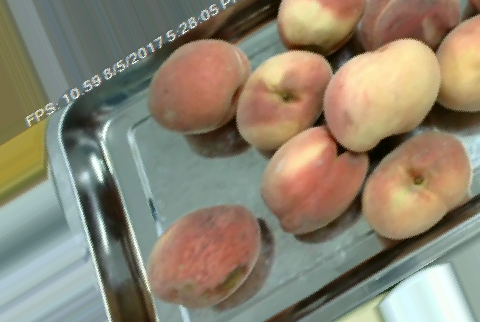Peach: (322, 38, 441, 150), (360, 130, 469, 240), (148, 203, 261, 305), (260, 125, 362, 233), (231, 50, 331, 151), (148, 38, 248, 135), (275, 0, 370, 54)
